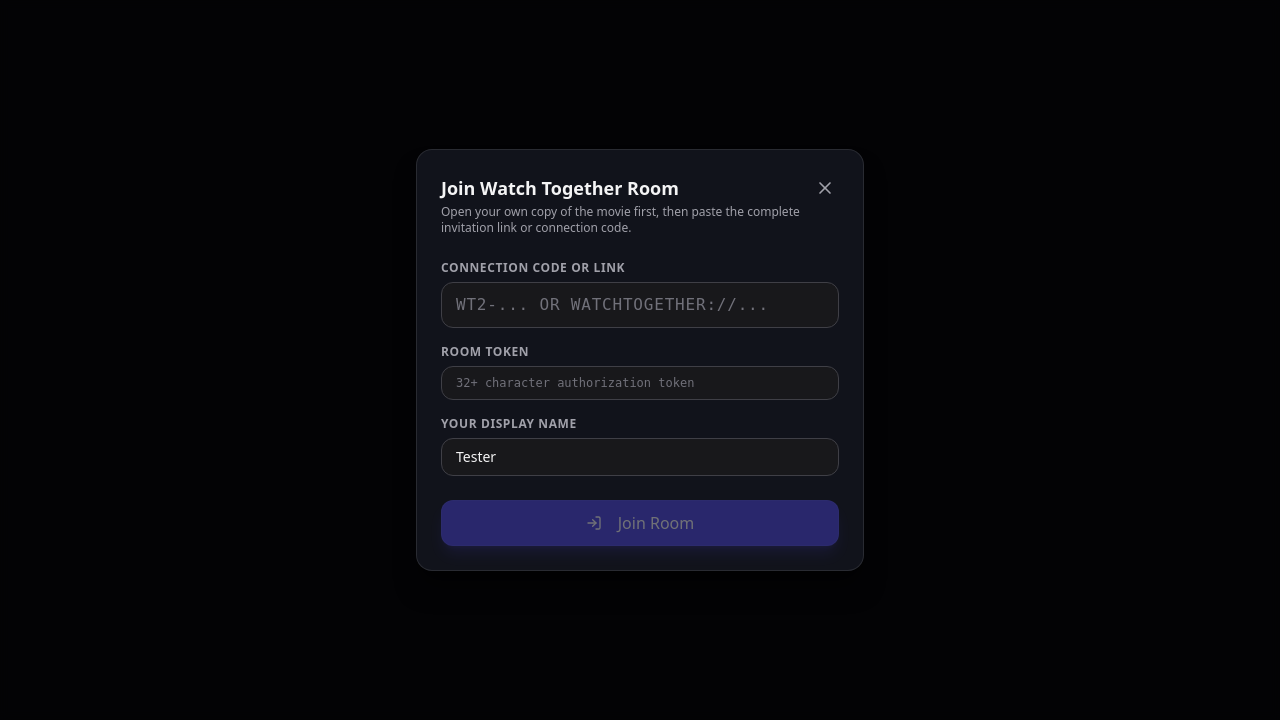
Test: Milestone 4 Empirical Adversarial Verification Suite › 1. Crockford Room Code Input Normalization & Fuzzing › auto-sanitizes input and populates code and token when pasting deep link in JoinRoomModal
The width and height of the screenshot is (1280, 720).
Expected: the button with test id "join-room-submit-btn" is disabled, 441,500 -> 839,546
Type "watchtogether://join/k7m-2p9?token=0123456789abcdef0123456789abcdef0123456789abcdef0123456789abcdef" into the field with test id "room-code-input" at x=640, y=305, box 441,282 -> 839,328
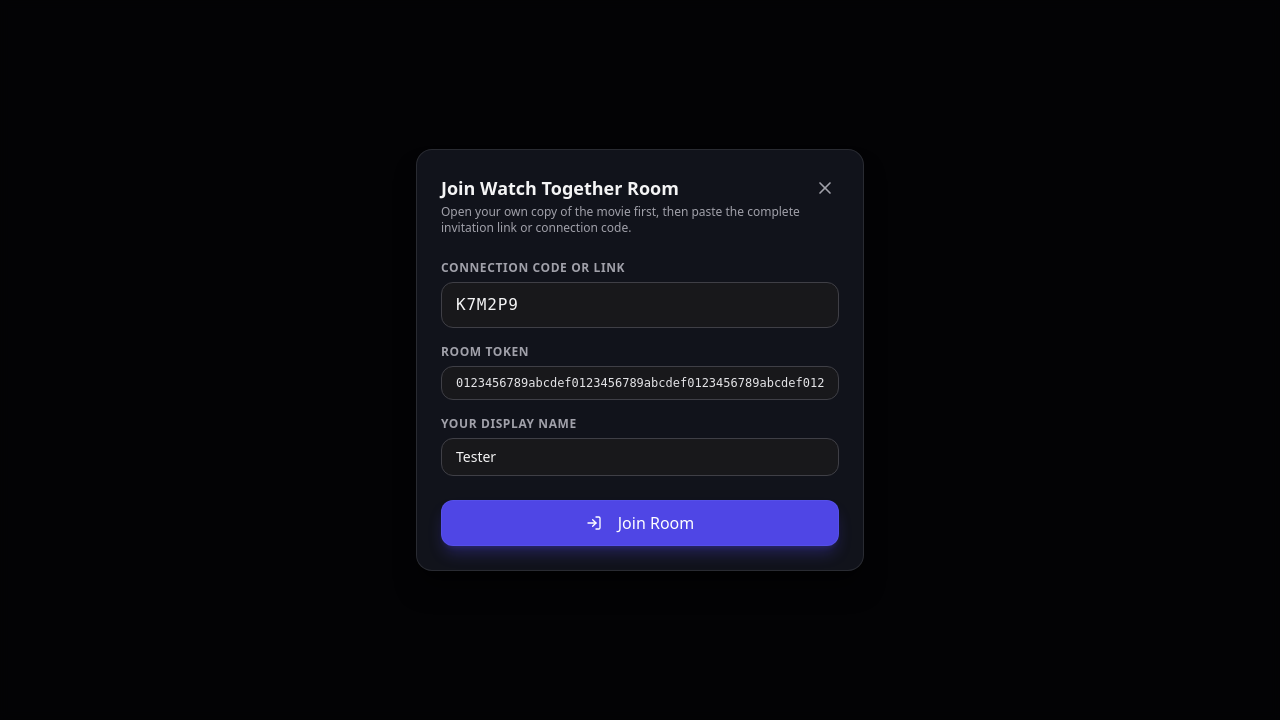
Expected: the field with test id "room-code-input" holds "K7M2P9", 441,282 -> 839,328
Expected: the field with test id "room-token-input" holds "0123456789abcdef0123456789abcdef0123456789abcdef0123456789abcdef", 441,366 -> 839,400
Expected: the button with test id "join-room-submit-btn" is enabled, 441,500 -> 839,546
